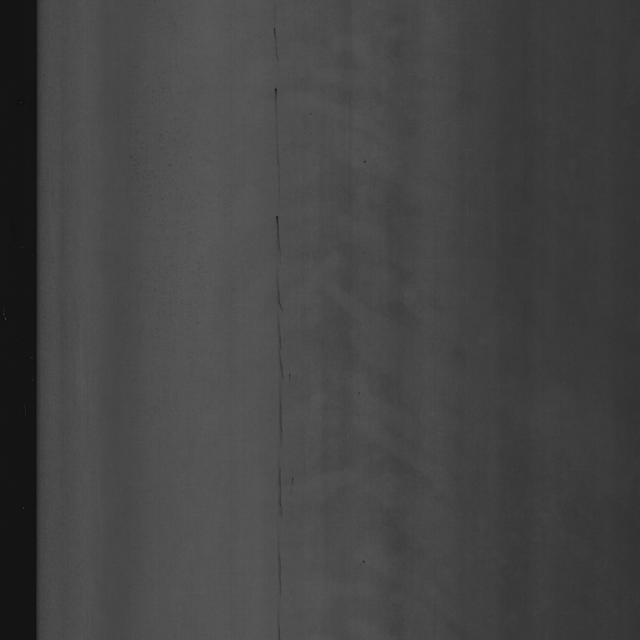oil_spot: (258, 34, 292, 618)
